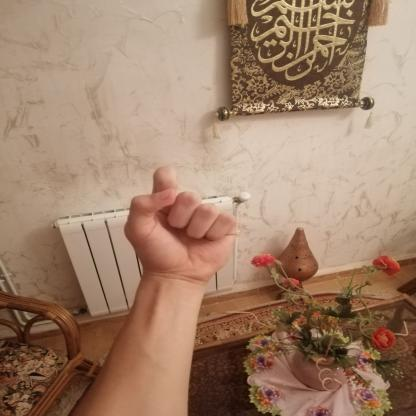FAA: (112, 154, 250, 294)
